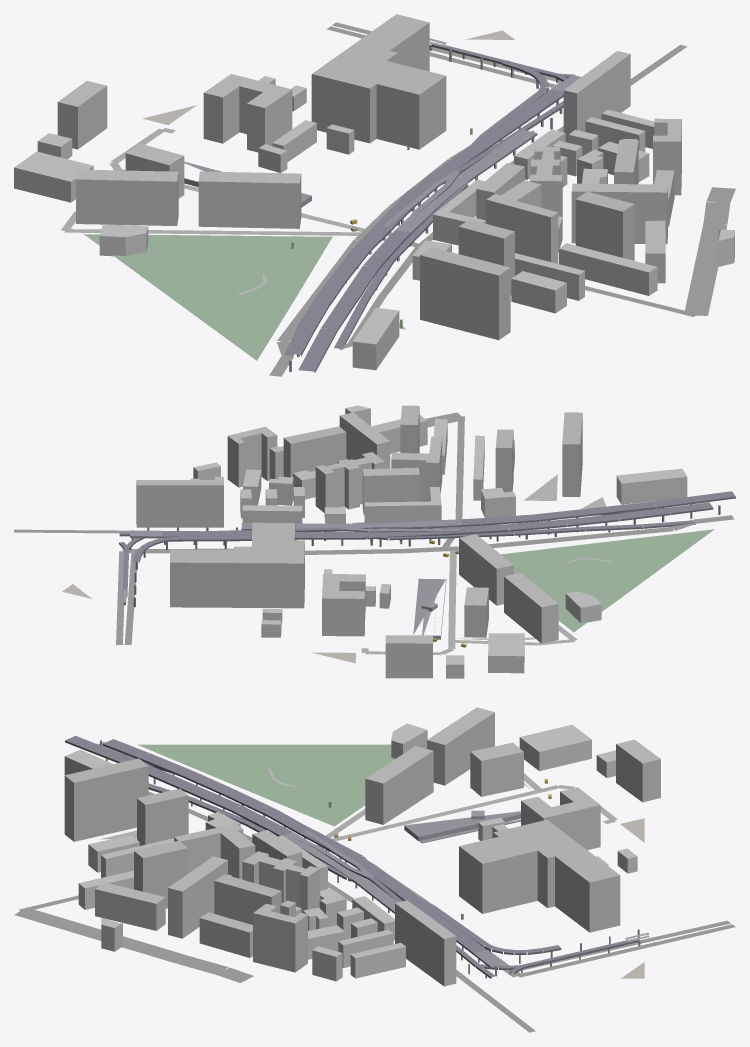
3 renders of one model, top to bottom at view 1: azimuth 30°, elevation 25°; view 2: azimuth 150°, elevation 25°; view 3: azimuth 270°, elevation 25°, orthographic. The views are drawn at different scales.
Bounding box in the file's own units: 628 × 69.84 × 654.
